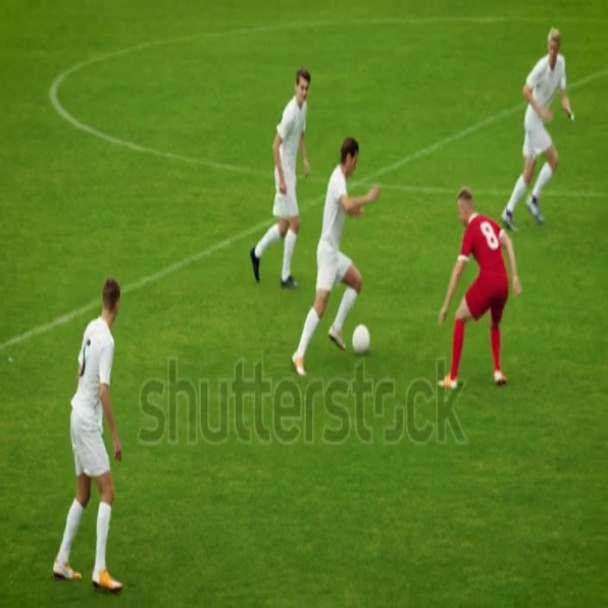ball: (355, 321, 371, 356)
